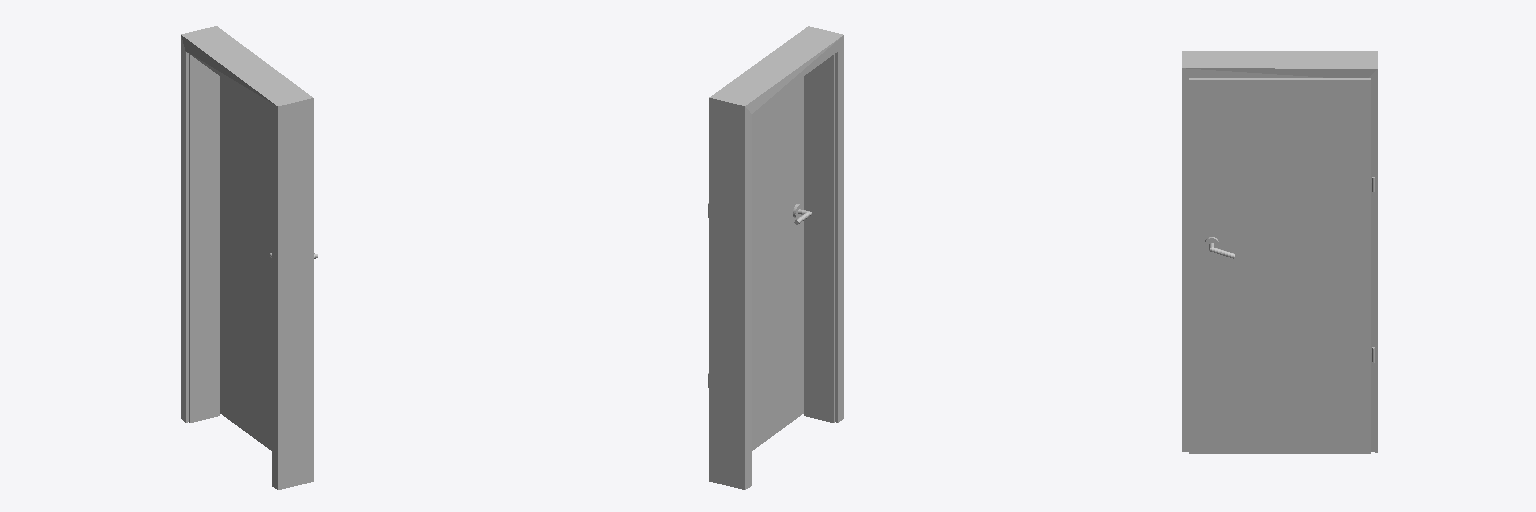
File: door41.obj
The picture shows the model from 3 angles: view 1: azimuth 30°, elevation 25°; view 2: azimuth 150°, elevation 25°; view 3: azimuth 270°, elevation 25°; orthographic projection.
Parts seen in each view (by area): view 1: Cylinder.005, Cylinder.001; view 2: Cylinder.005, Cylinder.001; view 3: Cylinder.001, Cylinder.005.
Boxes of the visible parts, x1=… form: Cylinder.005: x1=181, y1=26, x2=313, y2=489; Cylinder.001: x1=220, y1=77, x2=271, y2=450; Cylinder.005: x1=708, y1=26, x2=843, y2=489; Cylinder.001: x1=708, y1=77, x2=803, y2=450; Cylinder.001: x1=1189, y1=78, x2=1374, y2=453; Cylinder.005: x1=1182, y1=51, x2=1377, y2=452.
Size of the model in its own units: 0.3039 by 2.05 by 0.95.